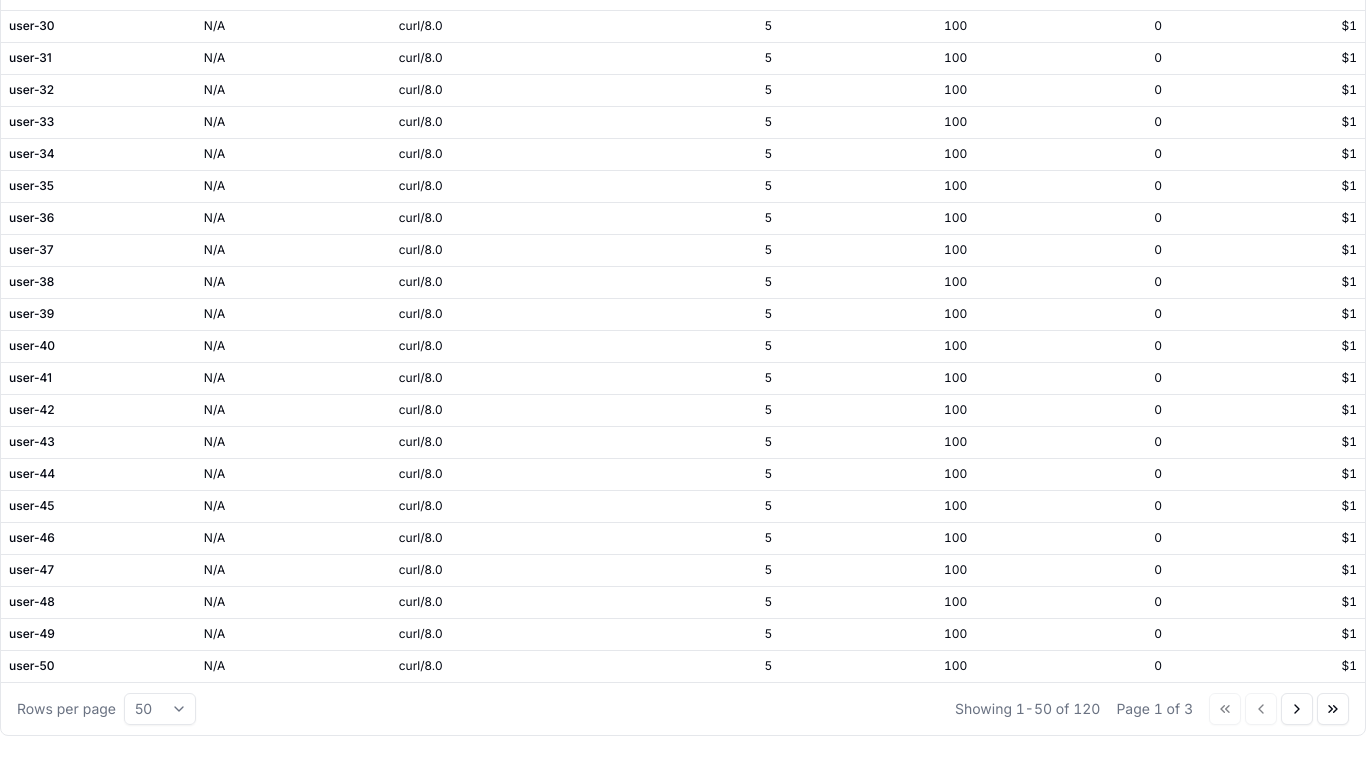
Test: PerUserUsage › server pagination › disables Next once the response says this is the last page
This screenshot has width=1366, height=760.
(page scrolled)
Step 1. Click the button with test id "pagination-last" → [1333, 709], box [1317,693,1349,725]
(page scrolled)
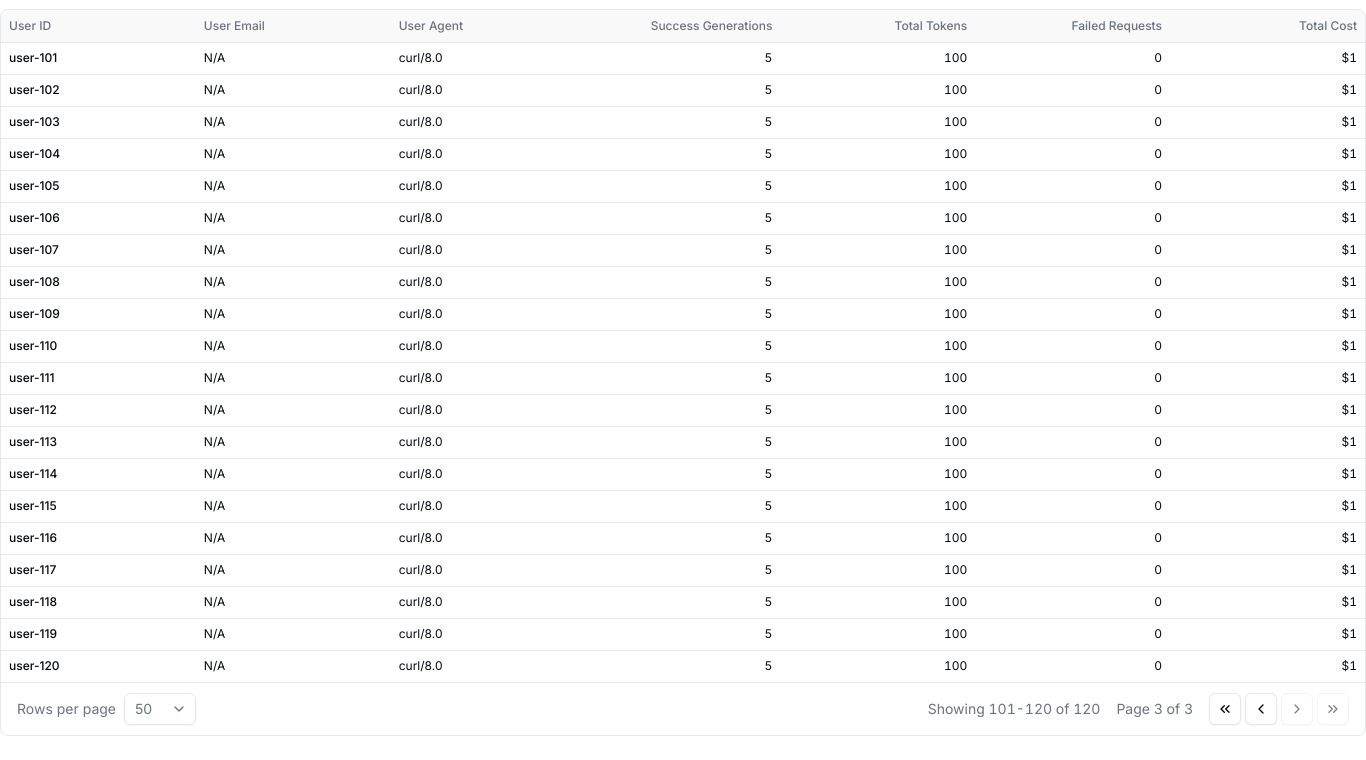
Check: the button with test id "pagination-next" is disabled, box [1281,693,1313,725]
Check: the text "user-120" is shown, box [9,658,60,673]
Check: the text with test id "pagination-range" reads "Showing 101-120 of 120", box [928,700,1100,717]
